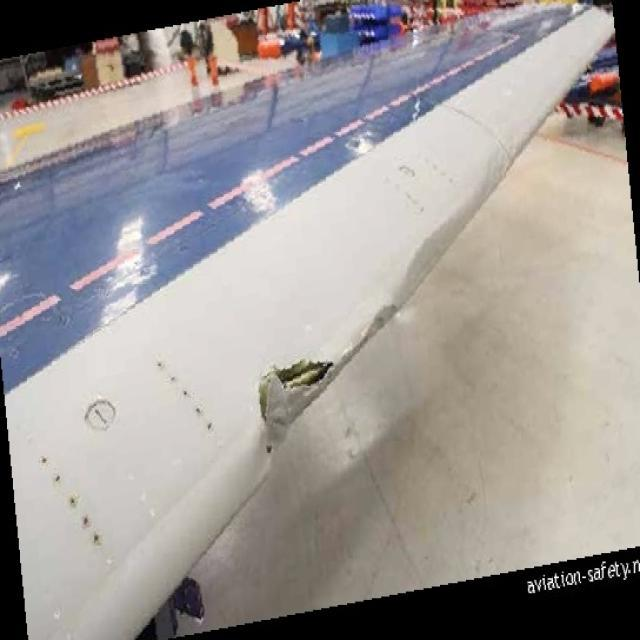crack: (262, 357, 335, 463)
dent: (405, 163, 511, 302), (345, 304, 402, 367)
